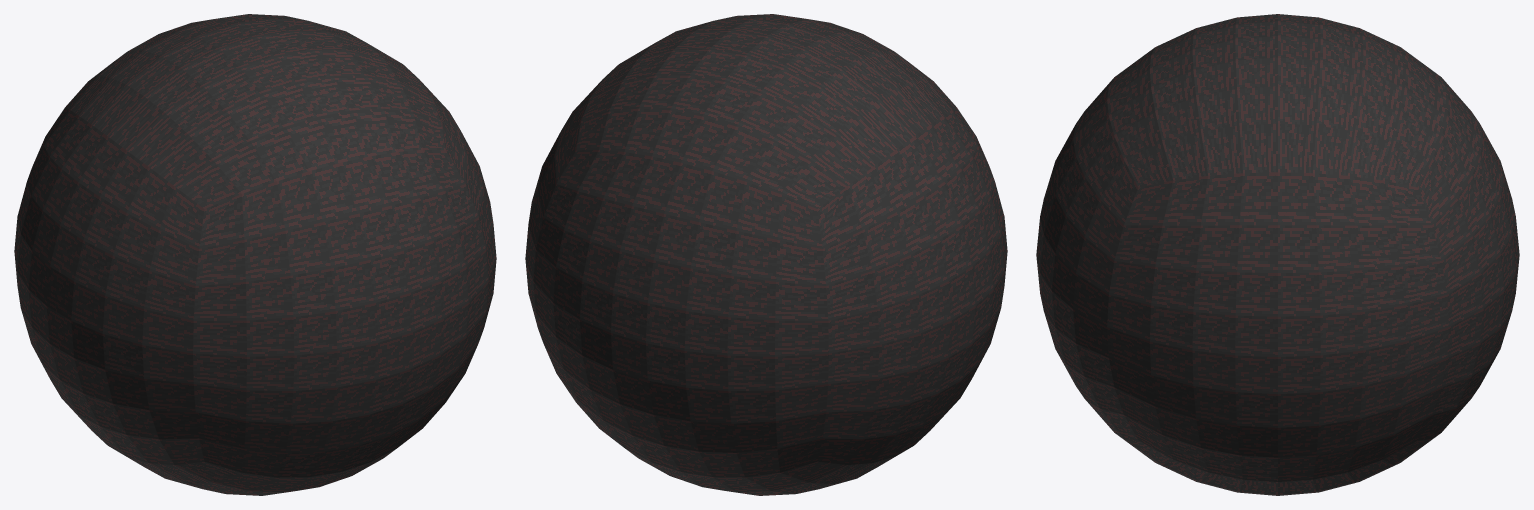
The model's file is bubble.obj.
3 renders of one model, left to right at view 1: azimuth 30°, elevation 25°; view 2: azimuth 150°, elevation 25°; view 3: azimuth 270°, elevation 25°, orthographic.
Visible parts, largest first — view 1: Roundcube; view 2: Roundcube; view 3: Roundcube.
Part boxes in pixels (left/top/right/bottom): Roundcube: left=14, top=14, right=496, bottom=495; Roundcube: left=525, top=14, right=1007, bottom=495; Roundcube: left=1036, top=14, right=1519, bottom=495.
Size of the model in its own units: 4 by 4 by 4.
